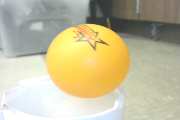PingPongBall: (48, 24, 129, 96)
